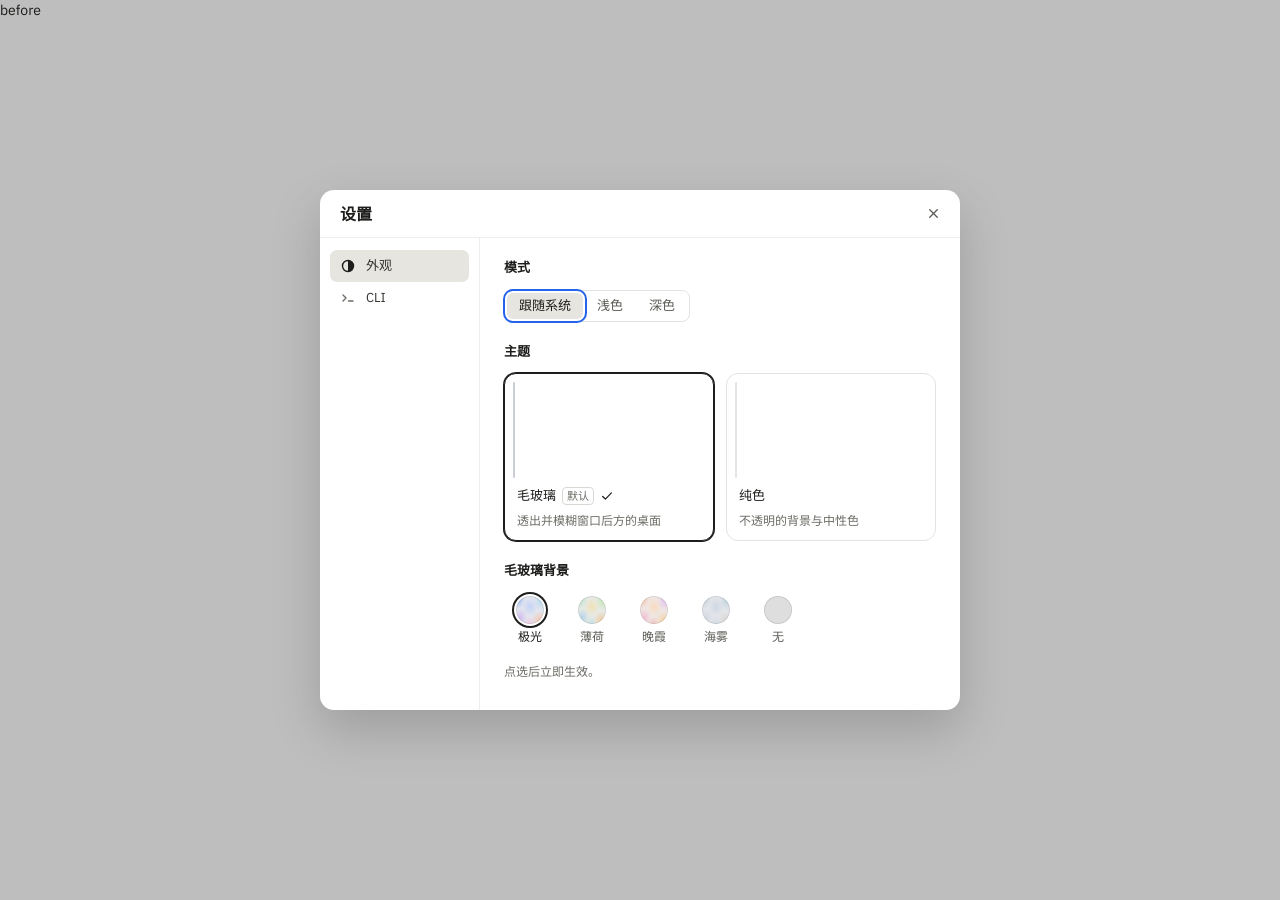
Test case: settings · FR-SET-001 / FR-SET-002 · AC-08 › retains the added CLI when removing it fails
Click the button "CLI".
click(400, 298)  # box [330, 282, 469, 314]
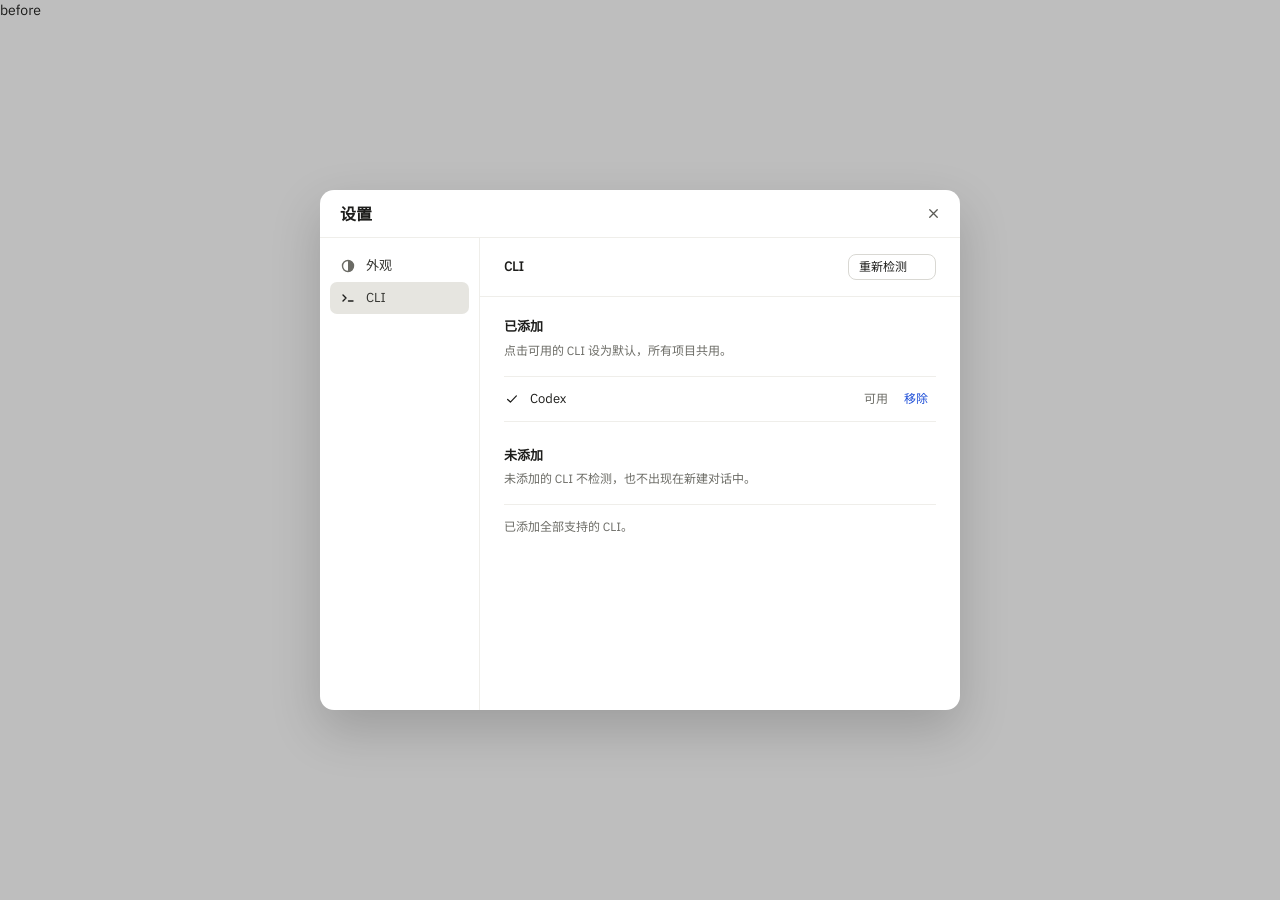
Expected: the button with aria-label "移除 Codex" is enabled
Click the button with aria-label "移除 Codex".
click(916, 399)  # box [896, 386, 936, 412]
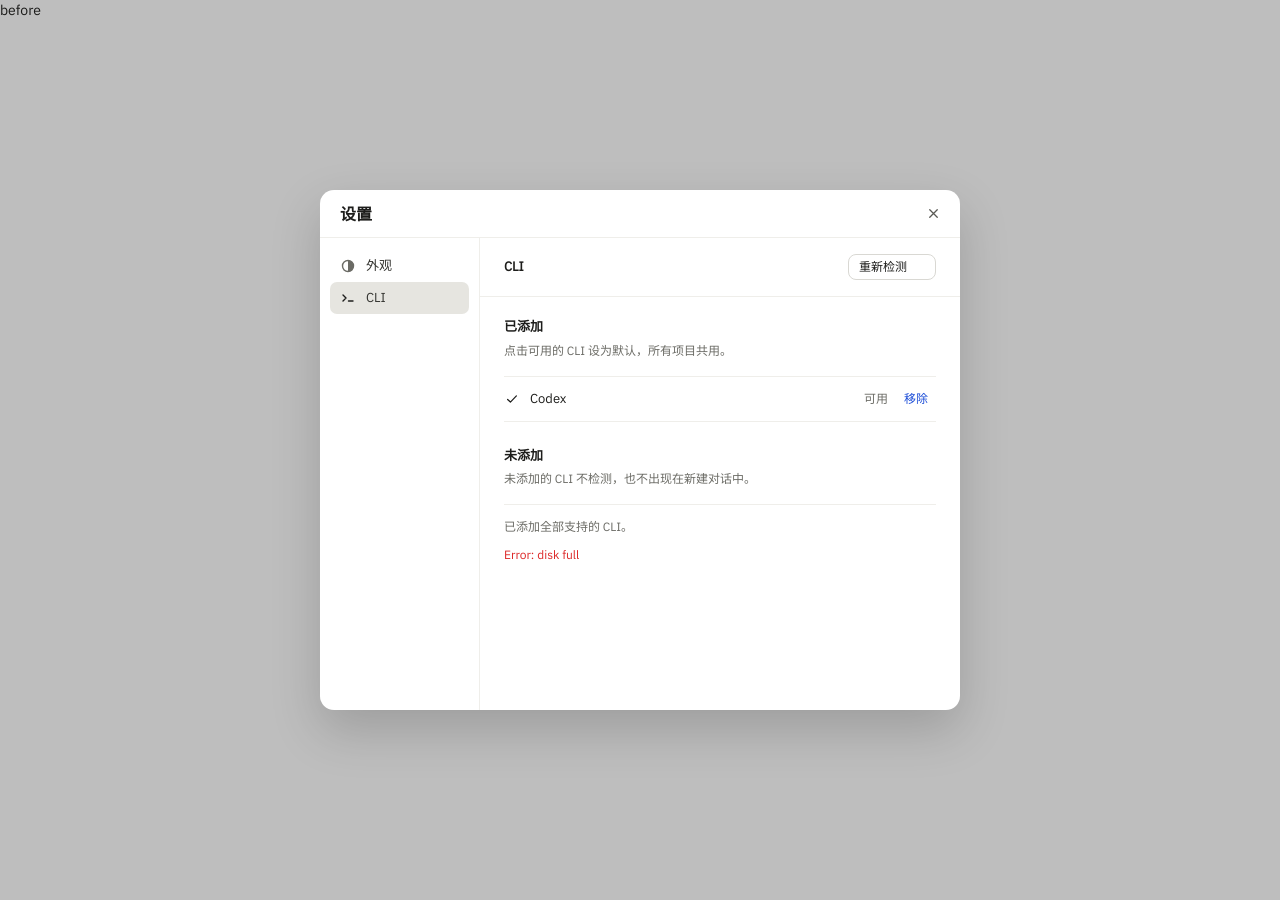
Expected: the message shows "disk full", [504, 547, 579, 562]
